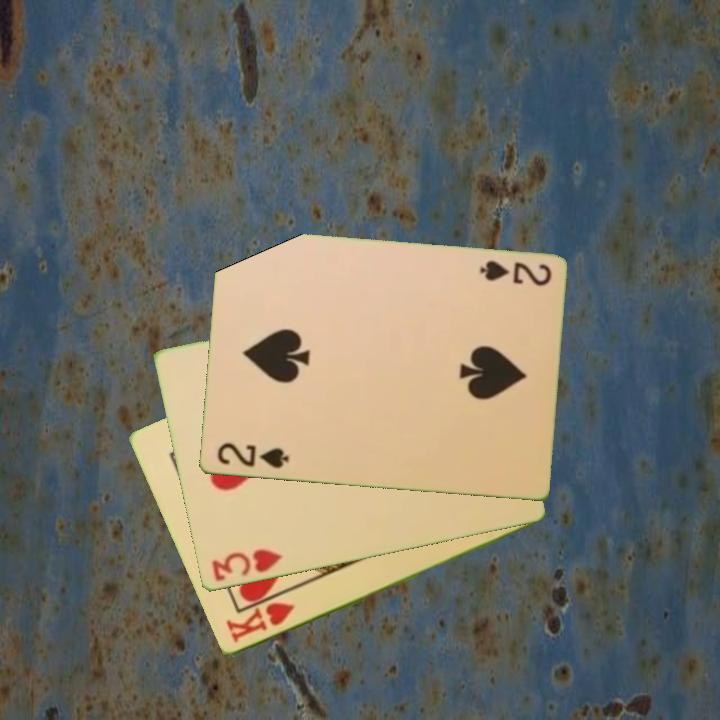2s: (213, 439, 291, 472), (476, 257, 554, 289)
3h: (208, 546, 285, 585)
Kh: (222, 599, 298, 647)
